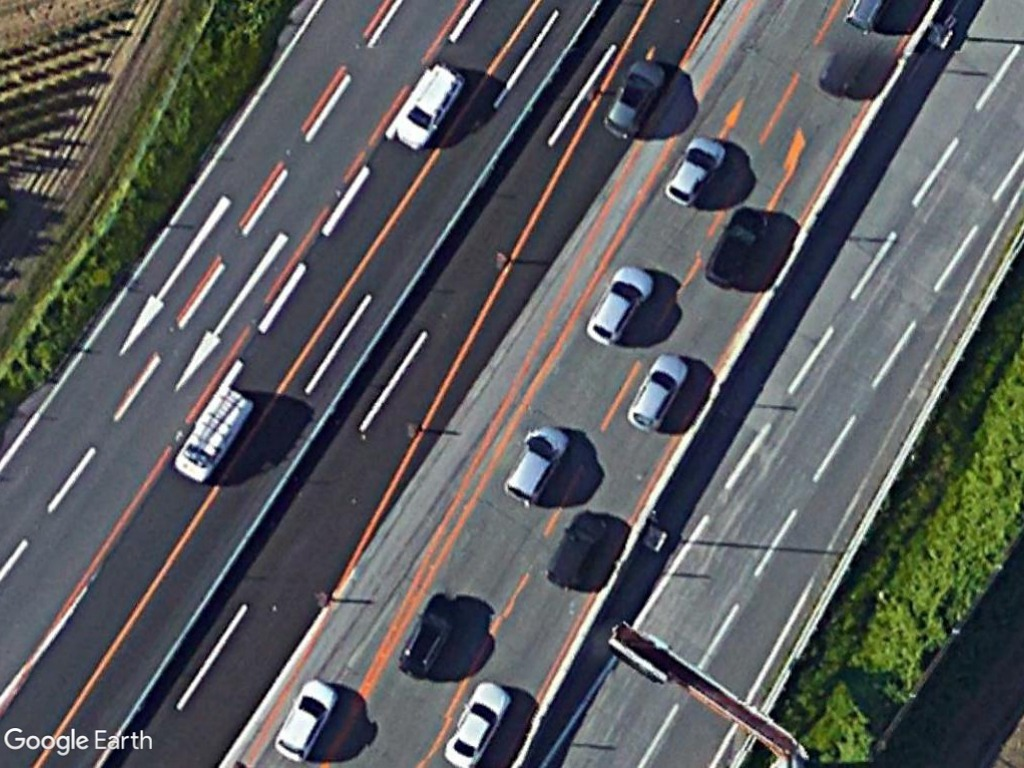car: (387, 52, 464, 154), (439, 677, 517, 766), (598, 51, 670, 146), (584, 258, 657, 350), (495, 420, 571, 508), (270, 674, 343, 765), (623, 347, 693, 438), (702, 202, 771, 290), (660, 127, 727, 213)
